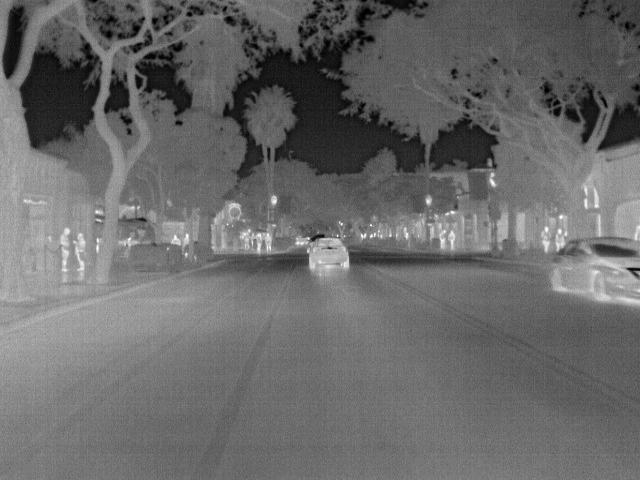car: (549, 236, 639, 308), (305, 236, 352, 272)
person: (58, 225, 71, 274), (73, 230, 87, 274), (540, 222, 555, 256), (261, 230, 276, 255), (552, 227, 566, 253), (436, 228, 450, 253), (251, 230, 264, 255), (446, 229, 459, 249), (170, 234, 183, 246)
